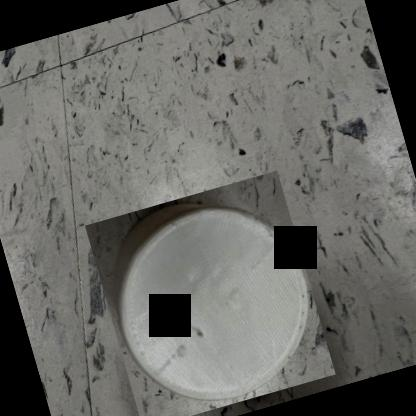white cylinder: (85, 170, 335, 416)
